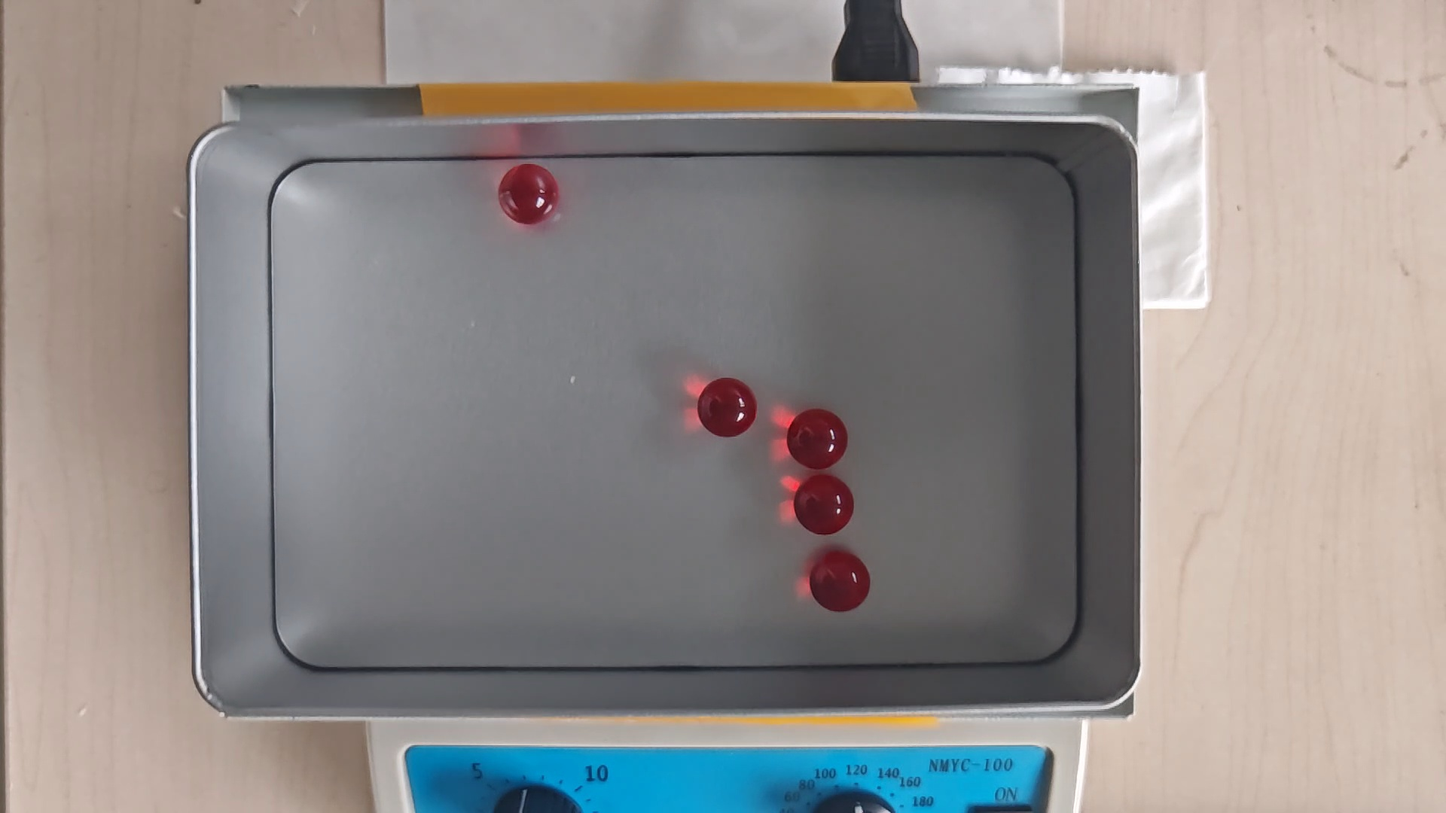ball: (805, 549, 869, 612), (497, 162, 559, 227), (788, 409, 847, 470), (795, 474, 853, 536), (700, 378, 757, 440)
container: (264, 147, 1079, 673)
